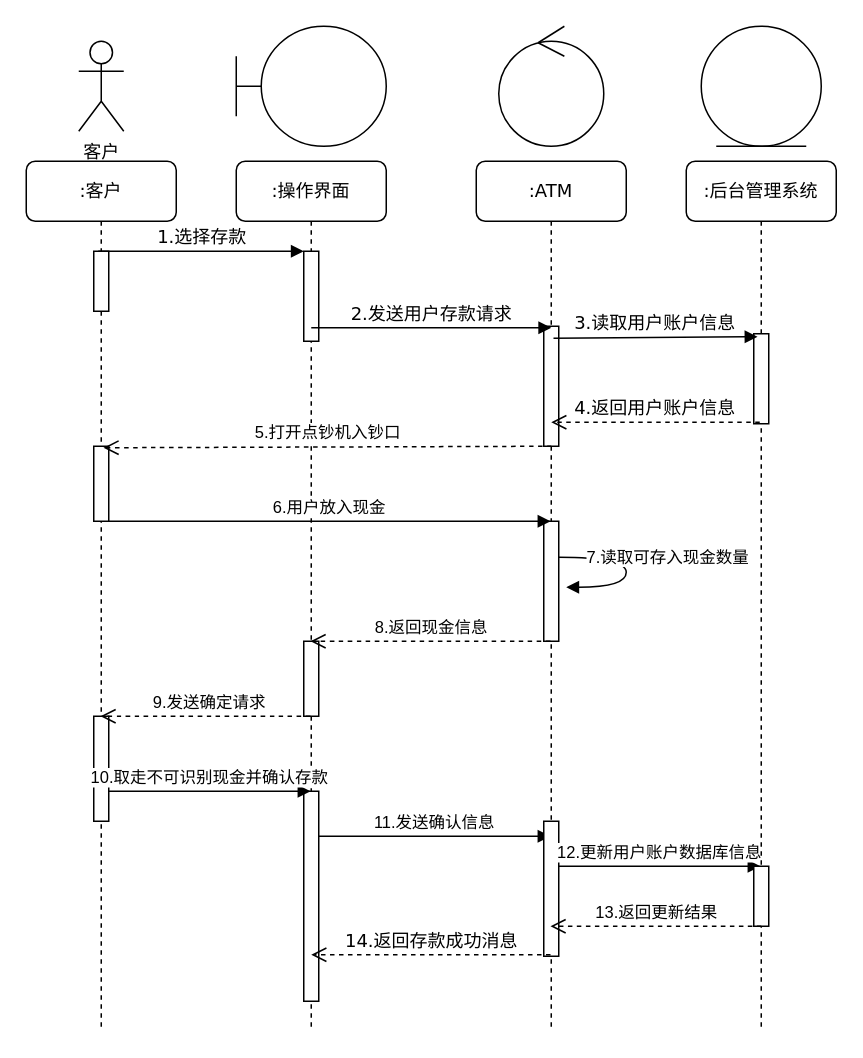
The diagram is 863 pixels wide and 1058 high, and some of its shapes have lost their labels. The shapes that lost their labels are listed below. From the top down, each one's centre as x and y in pixels, then its label:
(310,85): 操作界面
(550,85): ATM
(760,85): 后台管理系统
